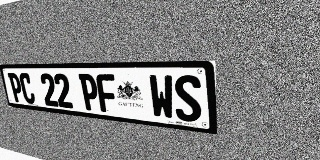2: (53, 73, 73, 108), (39, 73, 59, 107)
C: (18, 73, 36, 104)
F: (96, 74, 119, 114)
P: (78, 74, 100, 112), (7, 73, 25, 103)
S: (173, 75, 202, 123)
W: (148, 75, 175, 120)
